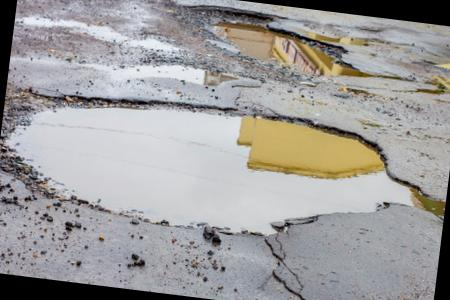pothole: (0, 64, 450, 276), (168, 0, 427, 103)
